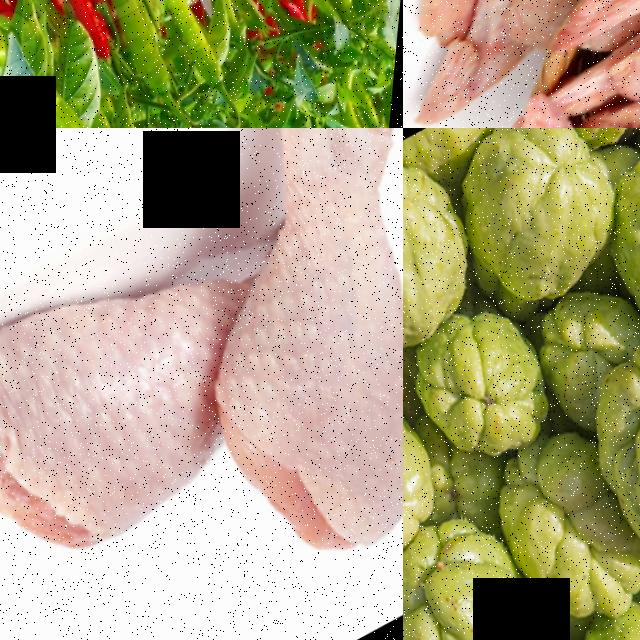chayote: (436, 128, 640, 314), (493, 430, 640, 624), (403, 304, 569, 473), (403, 496, 590, 640), (580, 312, 640, 627), (403, 155, 481, 350), (403, 375, 471, 578), (584, 128, 640, 331)
chicken thigh: (68, 128, 403, 606), (0, 211, 281, 622)
chilli: (79, 0, 198, 115), (129, 0, 249, 104), (26, 0, 130, 74), (26, 69, 153, 128)
